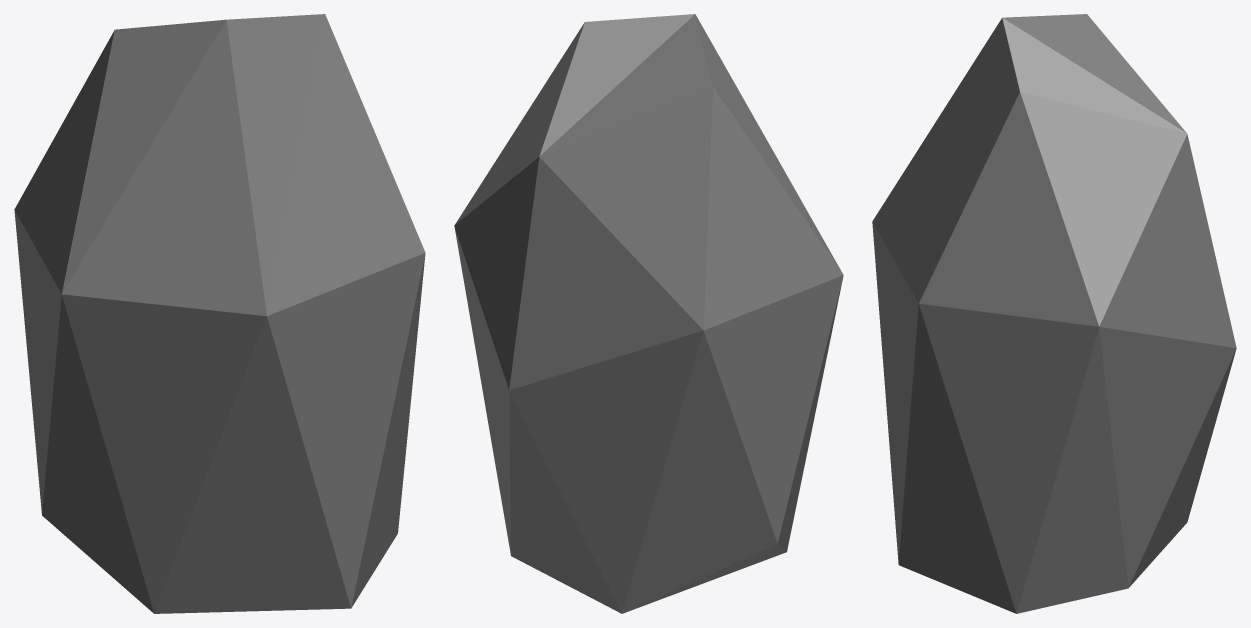
The model's file is rock_3.fbx.
The picture shows the model from 3 angles, left to right: view 1: azimuth 30°, elevation 25°; view 2: azimuth 150°, elevation 25°; view 3: azimuth 270°, elevation 25°; orthographic projection. The views are drawn at different scales.
Visible parts, largest first — view 1: rock_3; view 2: rock_3; view 3: rock_3.
Boxes of the visible parts, x1,y1,x2,y2 form: rock_3: (14, 14, 425, 613); rock_3: (454, 14, 843, 613); rock_3: (872, 14, 1236, 613).
Bounding box in the file's own units: 45.67 × 67.21 × 42.93.
